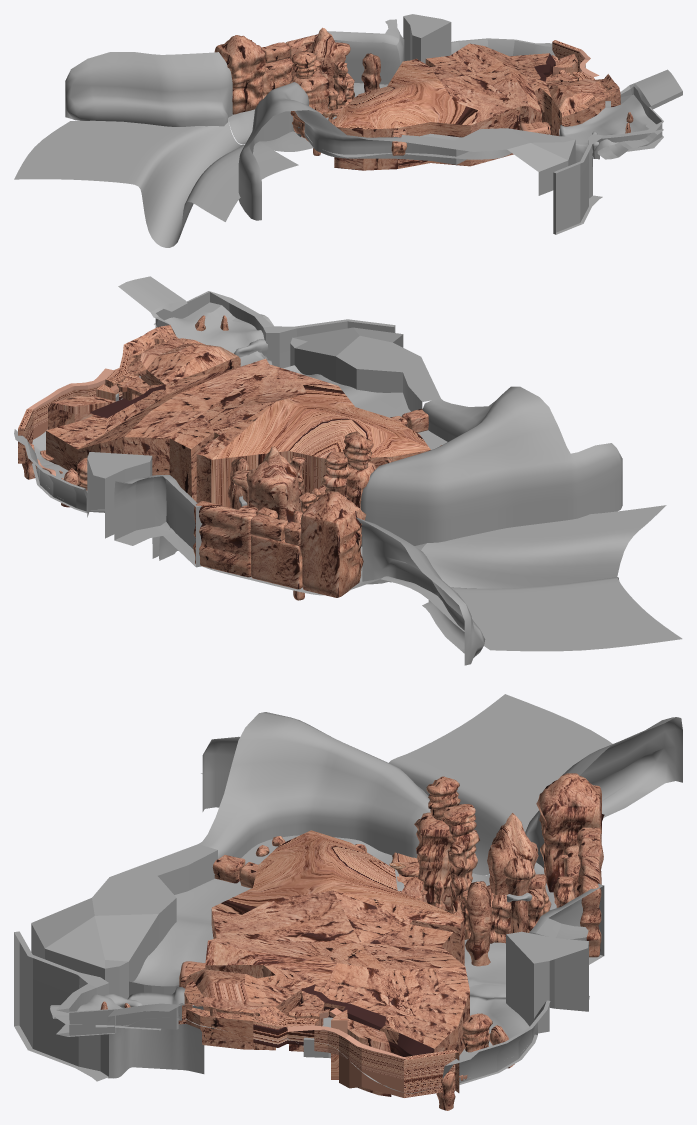
The model's file is Canyon_FullV9.fbx.
The picture shows the model from 3 angles, top to bottom: view 1: azimuth 30°, elevation 25°; view 2: azimuth 150°, elevation 25°; view 3: azimuth 270°, elevation 25°; orthographic projection. The views are drawn at different scales.
Parts seen in each view (by area): view 1: polySurface2, polySurface4, pCube46, polySurface10, polySurface9, pCube76, pCube125, rockwall_a00, pCube25, pCube47, pCube64, polySurface5 (+11 smaller); view 2: polySurface2, polySurface10, polySurface4, polySurface9, pCube46, rockwall_a00, pCube25, rockwall_a03, pCube76, pCube47, pCube125, rockwall_b09 (+10 smaller); view 3: polySurface2, polySurface10, polySurface4, polySurface9, pCube76, pCube46, pCube47, pCube123, pCube125, rockwall_a00, rockwall_c03, pCube102 (+16 smaller).
Part boxes in pixels (x1=…): polySurface2: x1=334, y1=40, x2=620, y2=170; polySurface4: x1=14, y1=120, x2=298, y2=247; pCube46: x1=65, y1=52, x2=232, y2=126; polySurface10: x1=238, y1=82, x2=401, y2=220; polySurface9: x1=400, y1=128, x2=575, y2=195; pCube76: x1=553, y1=107, x2=663, y2=234; pCube125: x1=559, y1=94, x2=663, y2=166; rockwall_a00: x1=214, y1=35, x2=265, y2=114; pCube25: x1=327, y1=19, x2=404, y2=84; pCube47: x1=403, y1=14, x2=451, y2=63; pCube64: x1=620, y1=69, x2=682, y2=116; polySurface5: x1=228, y1=83, x2=387, y2=151; polySurface2: x1=18, y1=325, x2=430, y2=507; polySurface10: x1=360, y1=386, x2=622, y2=546; polySurface4: x1=381, y1=505, x2=682, y2=651; polySurface9: x1=290, y1=327, x2=440, y2=411; pCube46: x1=356, y1=517, x2=485, y2=665; rockwall_a00: x1=299, y1=491, x2=366, y2=597; pCube25: x1=114, y1=475, x2=202, y2=567; rockwall_a03: x1=193, y1=501, x2=256, y2=577; pCube76: x1=187, y1=291, x2=395, y2=368; pCube47: x1=87, y1=452, x2=152, y2=538; pCube125: x1=154, y1=302, x2=273, y2=366; rockwall_b09: x1=246, y1=446, x2=299, y2=522; polySurface2: x1=178, y1=830, x2=469, y2=1097; polySurface10: x1=199, y1=712, x2=430, y2=858; polySurface4: x1=201, y1=694, x2=625, y2=875; polySurface9: x1=31, y1=844, x2=217, y2=998; pCube76: x1=14, y1=931, x2=116, y2=1081; pCube46: x1=525, y1=717, x2=682, y2=867; pCube47: x1=506, y1=931, x2=588, y2=1033; pCube123: x1=129, y1=835, x2=404, y2=996; pCube125: x1=50, y1=987, x2=204, y2=1078; rockwall_a00: x1=536, y1=773, x2=604, y2=892; rockwall_c03: x1=414, y1=812, x2=454, y2=911; pCube102: x1=442, y1=1000, x2=550, y2=1084.
Size of the model in its own units: 72646 by 17392 by 50583.
